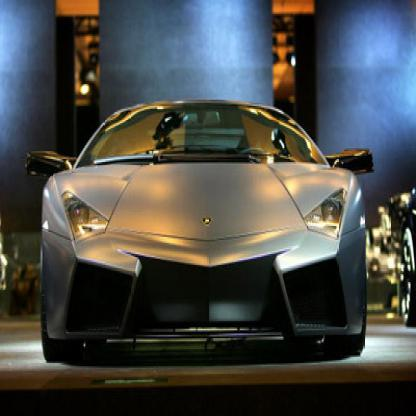Vehicle: (27, 98, 377, 363)
